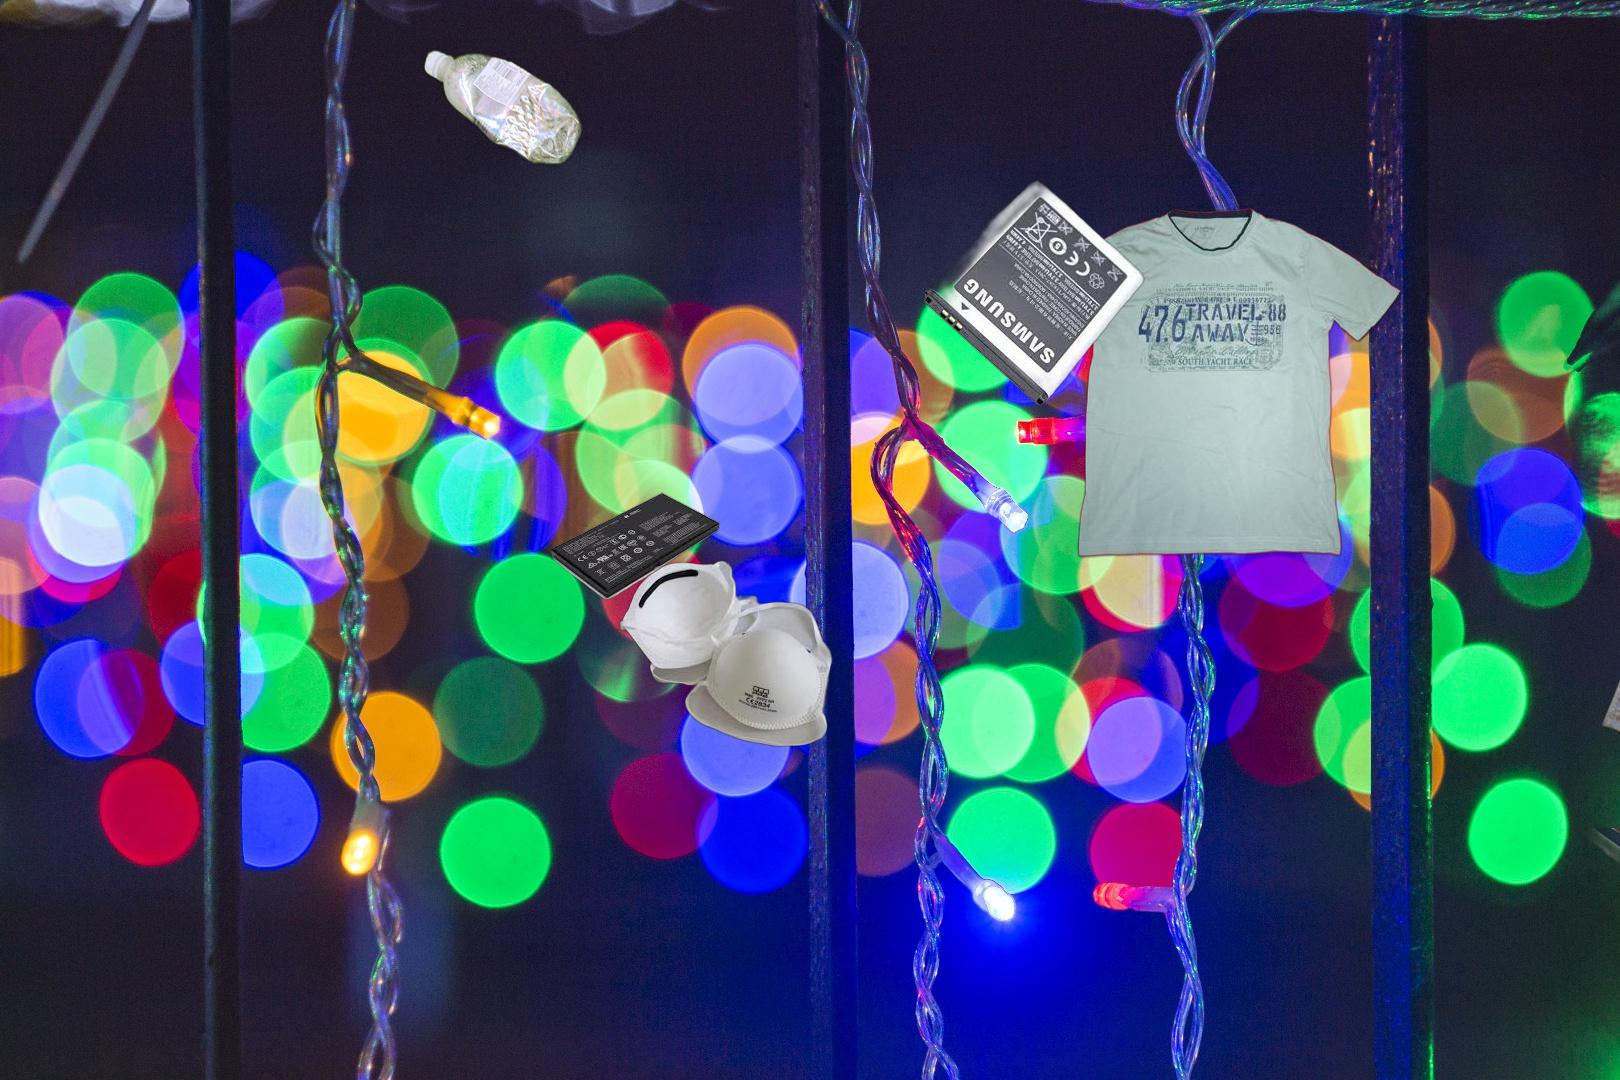battery: (923, 180, 1145, 406), (548, 491, 723, 603)
clothes: (1022, 202, 1405, 560), (1600, 492, 1620, 755)
paper: (1559, 828, 1620, 1080)
plastic-bottles: (419, 45, 586, 174)
trash: (615, 548, 835, 749)
